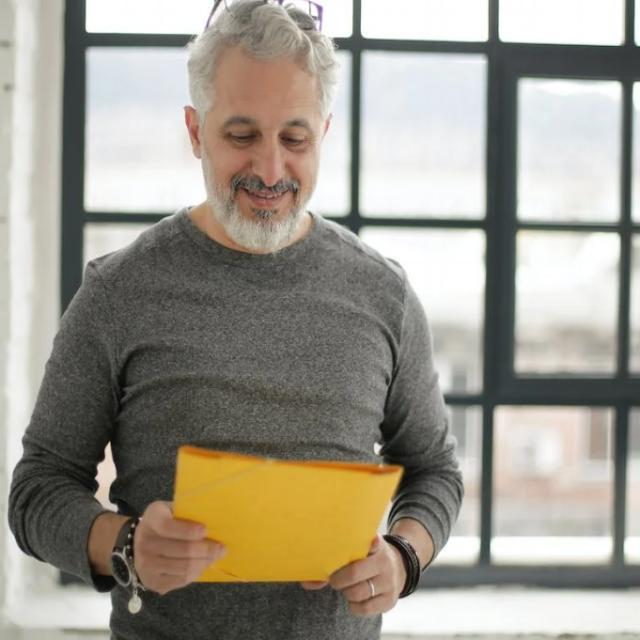Watch: (110, 508, 140, 589)
